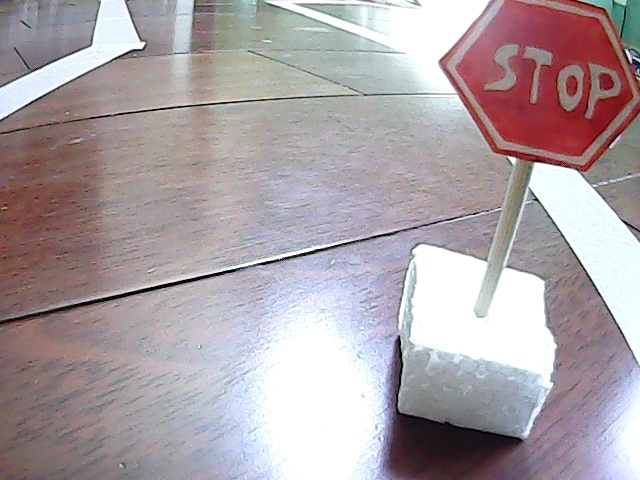stop: (402, 1, 628, 454)
